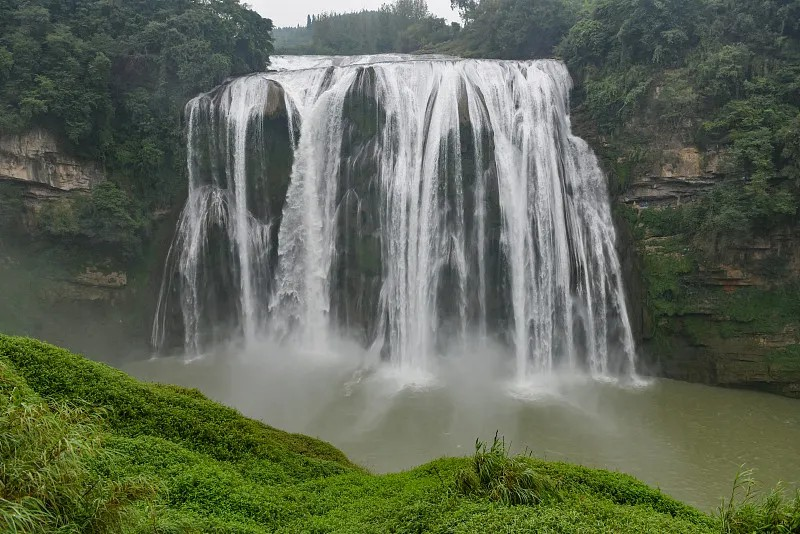Huangguoshu: (150, 54, 643, 386)
